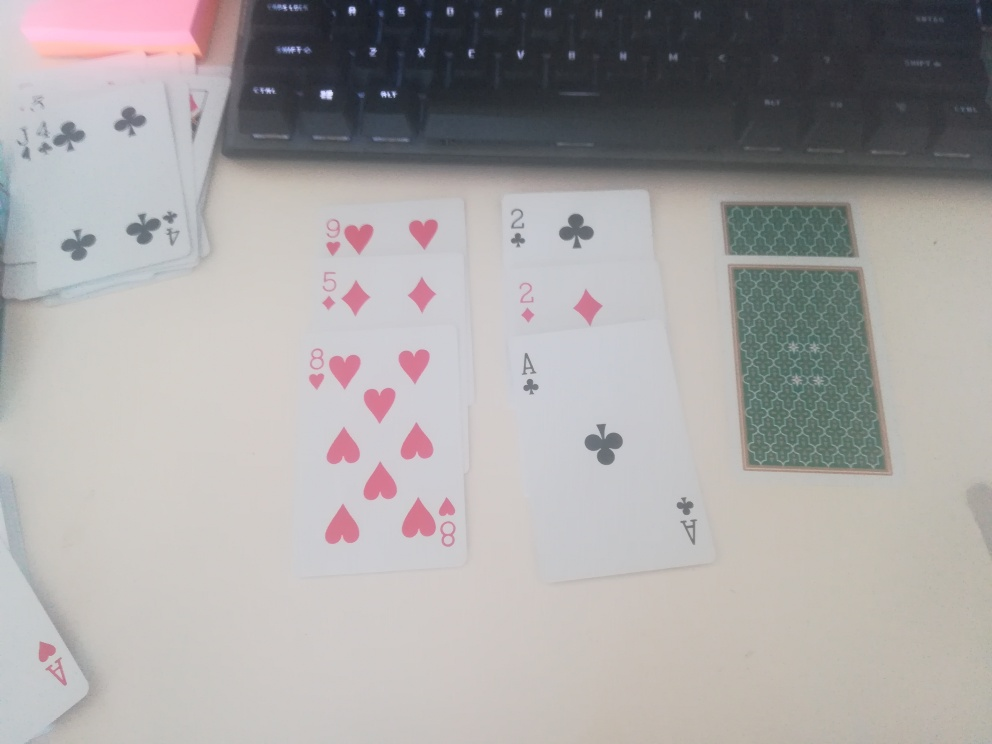2C: (507, 204, 533, 254)
2D: (516, 275, 541, 329)
5D: (316, 265, 341, 314)
8H: (305, 344, 330, 397)
9H: (321, 208, 347, 262)
AC: (514, 347, 547, 402)
BACK: (726, 265, 896, 480), (723, 196, 858, 258)
